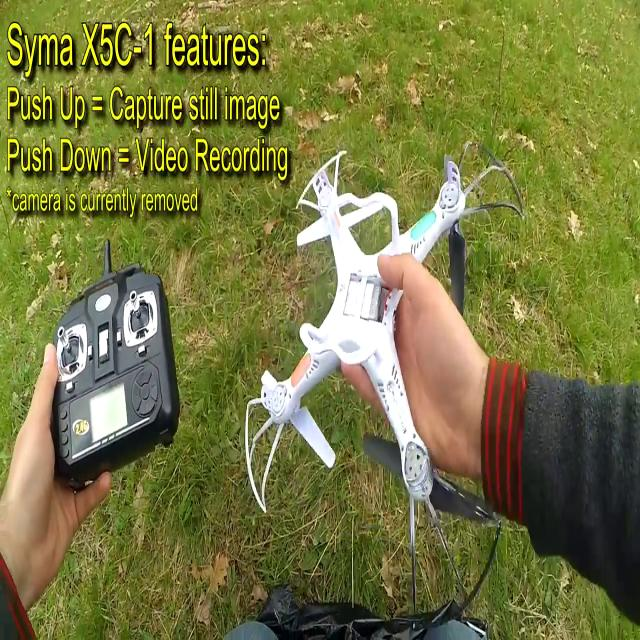drones: (240, 136, 486, 545)
